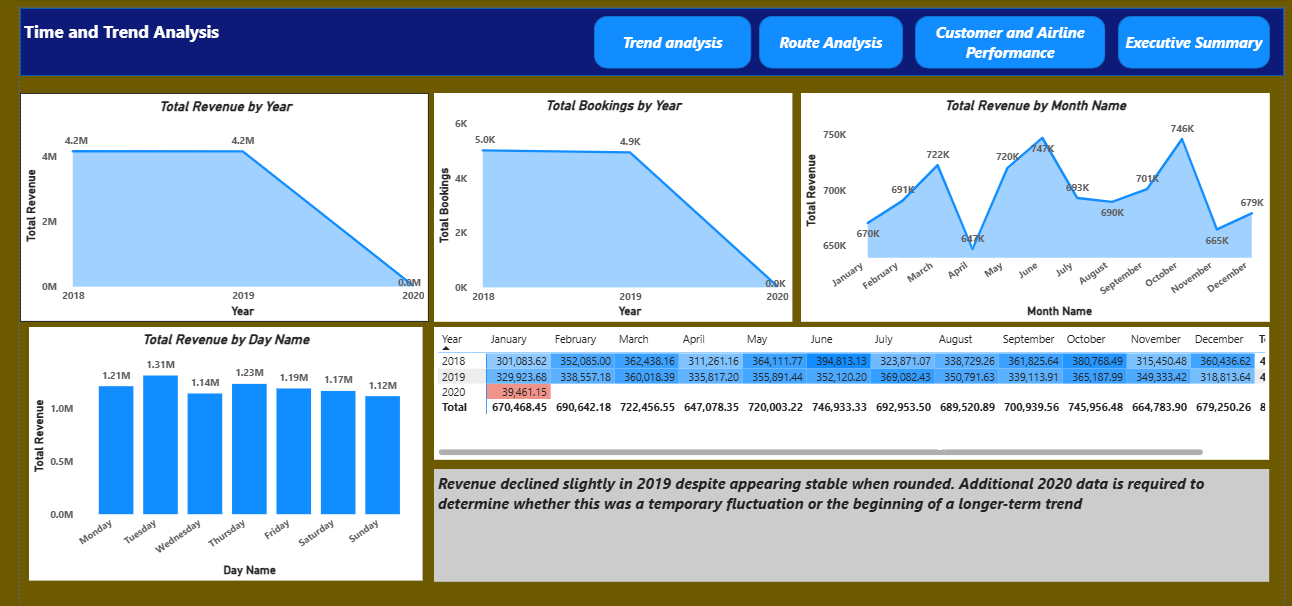

The dashboard page shown, as its layout file describes it:
{"tool":"powerbi","page":{"name":"Trend analysis","canvas":[1580,1080],"ordinal":1},"visuals":[{"type":"shape","box":[0,0,1580,85],"z":0},{"type":"textbox","box":[0,10,320,66],"z":1000},{"type":"lineChart","fields":{"Category":["Date Table.Year"],"Y":["Measures (2).Total Revenue"]},"box":[0,106,511,286],"z":2000},{"type":"lineChart","fields":{"Category":["Date Table.Year"],"Y":["Measures (2).Total Bookings"]},"box":[518,106,448,286],"z":3000},{"type":"lineChart","fields":{"Category":["Date Table.Month Name"],"Y":["Measures (2).Total Revenue"]},"box":[976,106,586,286],"z":4000},{"type":"columnChart","fields":{"Category":["Date Table.Day Name"],"Y":["Measures (2).Total Revenue"]},"box":[11,399,492,317],"z":5000},{"type":"pivotTable","fields":{"Rows":["Date Table.Year"],"Values":["Measures (2).Total Revenue"],"Columns":["Date Table.Month Name"]},"box":[518,399,1044,166],"z":6000},{"type":"textbox","box":[518,576,1044,141],"z":11000},{"type":"shape","box":[1372.2,10,190,65.6],"z":12000},{"type":"shape","box":[717.8,10,196.7,65.6],"z":13000},{"type":"shape","box":[923.3,10,180,65.6],"z":14000},{"type":"shape","box":[1118.9,10,237.8,65.6],"z":15000}]}

Visuals, with their boxes on the page's 1580x1080 design canvas (x1, y1, x2, y2). These are canvas units, not pixel positions in the 1292x606 screenshot, which may show the page scaled, cropped or inside an application window:
shape: Rect(0, 0, 1580, 85)
textbox: Rect(0, 10, 320, 76)
lineChart - Date Table.Year x Measures (2).Total Revenue: Rect(0, 106, 511, 392)
lineChart - Date Table.Year x Measures (2).Total Bookings: Rect(518, 106, 966, 392)
lineChart - Date Table.Month Name x Measures (2).Total Revenue: Rect(976, 106, 1562, 392)
columnChart - Date Table.Day Name x Measures (2).Total Revenue: Rect(11, 399, 503, 716)
pivotTable - Date Table.Year x Measures (2).Total Revenue: Rect(518, 399, 1562, 565)
textbox: Rect(518, 576, 1562, 717)
shape: Rect(1372, 10, 1562, 76)
shape: Rect(718, 10, 914, 76)
shape: Rect(923, 10, 1103, 76)
shape: Rect(1119, 10, 1357, 76)
